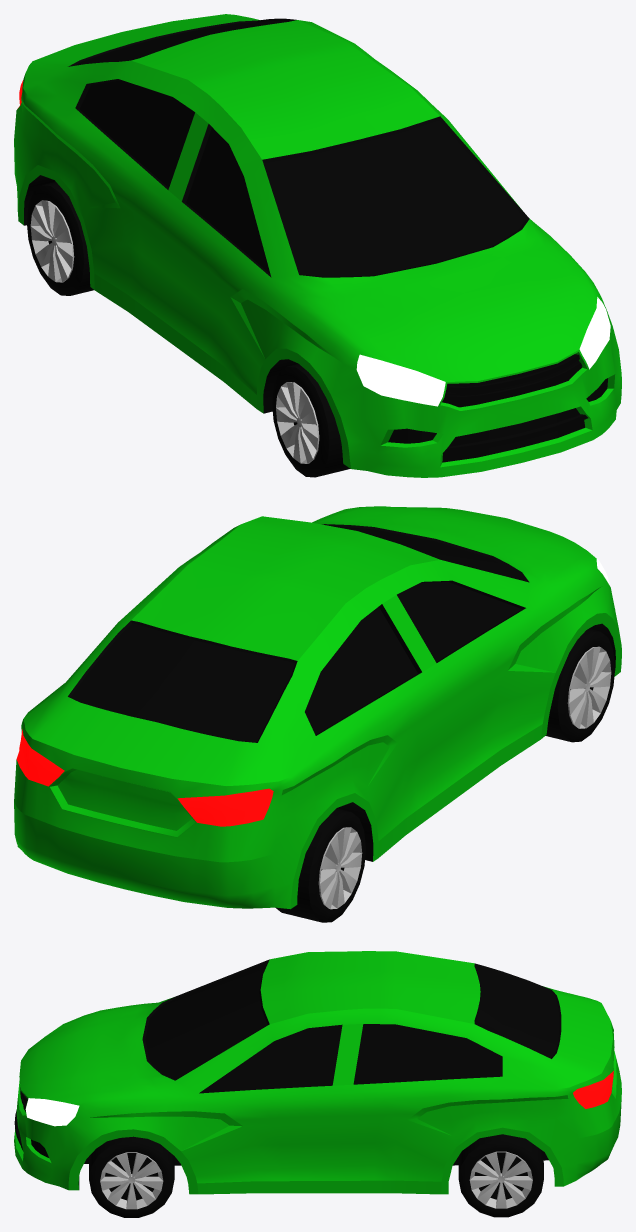
The model's file is Lada Vesta.fbx.
The picture shows the model from 3 angles, top to bottom: view 1: azimuth 30°, elevation 25°; view 2: azimuth 150°, elevation 25°; view 3: azimuth 270°, elevation 25°; orthographic projection. The views are drawn at different scales.
Parts seen in each view (by area): view 1: Vesta, FR_Wheel, BR_Wheel; view 2: Vesta, BR_Wheel, FR_Wheel; view 3: Vesta, BL_Wheel, FL_Wheel.
Part boxes in pixels (x1,y1,x2,y2): Vesta: (14, 14, 621, 477); FR_Wheel: (272, 364, 350, 477); BR_Wheel: (26, 182, 93, 295); Vesta: (14, 506, 621, 909); BR_Wheel: (275, 808, 365, 922); FR_Wheel: (545, 629, 615, 742); Vesta: (14, 951, 621, 1194); BL_Wheel: (458, 1134, 543, 1217); FL_Wheel: (89, 1136, 174, 1217).
Bounding box in the file's own units: 183 × 150 × 439.
